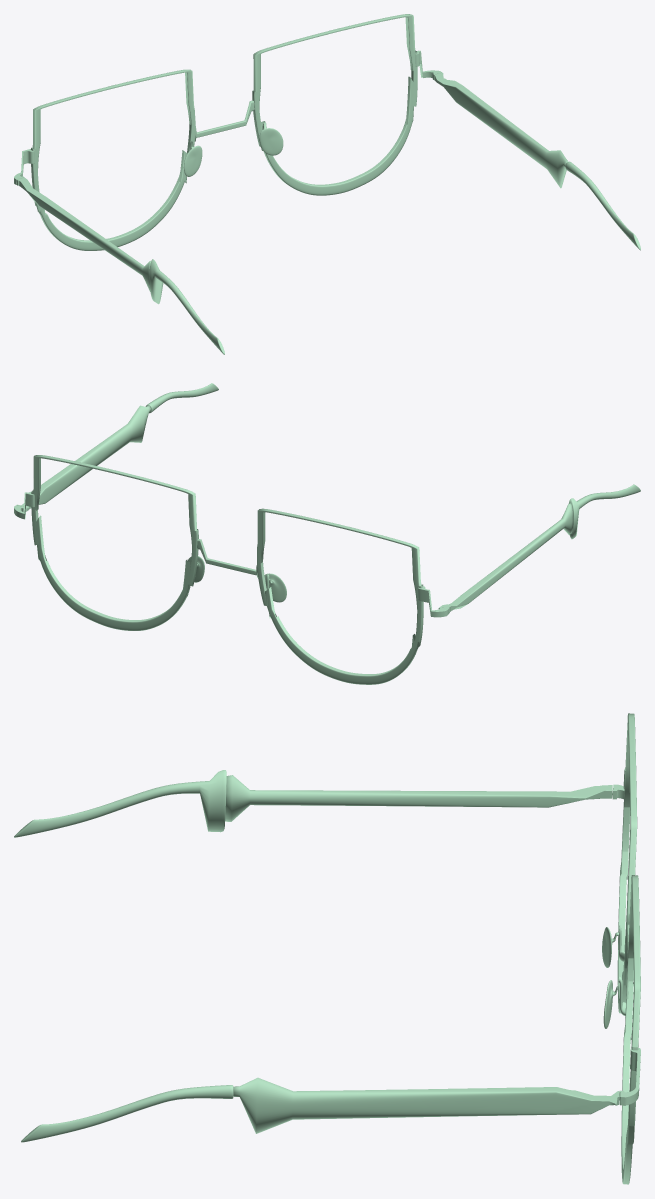
3 renders of one model, top to bottom at view 1: azimuth 30°, elevation 25°; view 2: azimuth 150°, elevation 25°; view 3: azimuth 270°, elevation 25°, orthographic. The views are drawn at different scales.
Parts seen in each view (by area): view 1: _Metal_Frame_Reading_Glasses_V2_Max2011_iterations_2:_Metal_; view 2: _Metal_Frame_Reading_Glasses_V2_Max2011_iterations_2:_Metal_; view 3: _Metal_Frame_Reading_Glasses_V2_Max2011_iterations_2:_Metal_.
Boxes of the visible parts, x1=… form: _Metal_Frame_Reading_Glasses_V2_Max2011_iterations_2:_Metal_: x1=14, y1=14, x2=640, y2=354; _Metal_Frame_Reading_Glasses_V2_Max2011_iterations_2:_Metal_: x1=14, y1=383, x2=640, y2=684; _Metal_Frame_Reading_Glasses_V2_Max2011_iterations_2:_Metal_: x1=14, y1=713, x2=640, y2=1184.
Size of the model in its own units: 16 by 5.71 by 13.52.
